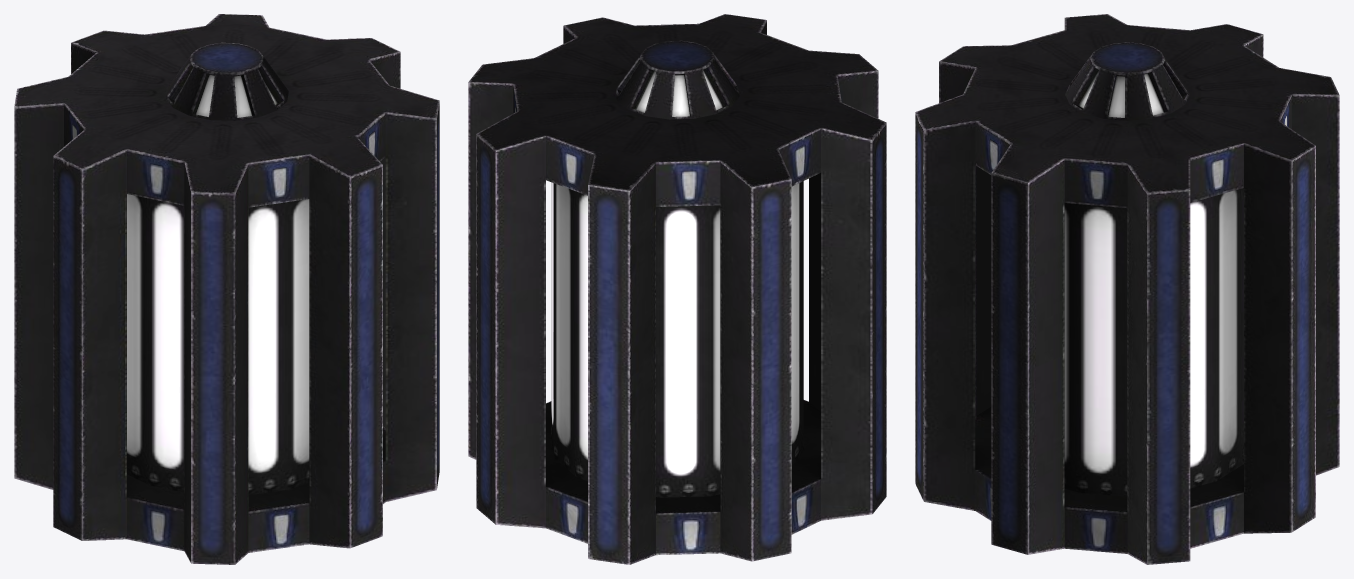
The model's file is conteneur-de-stockage.glb.
3 renders of one model, left to right at view 1: azimuth 30°, elevation 25°; view 2: azimuth 150°, elevation 25°; view 3: azimuth 270°, elevation 25°, orthographic.
Parts seen in each view (by area): view 1: Object_2; view 2: Object_2; view 3: Object_2.
Boxes of the visible parts, x1,y1,x2,y2 form: Object_2: (14, 14, 439, 564); Object_2: (468, 14, 886, 564); Object_2: (915, 14, 1339, 564).
Size of the model in its own units: 83.84 by 93 by 83.84.
Materials: 1 (1 with a texture image).
